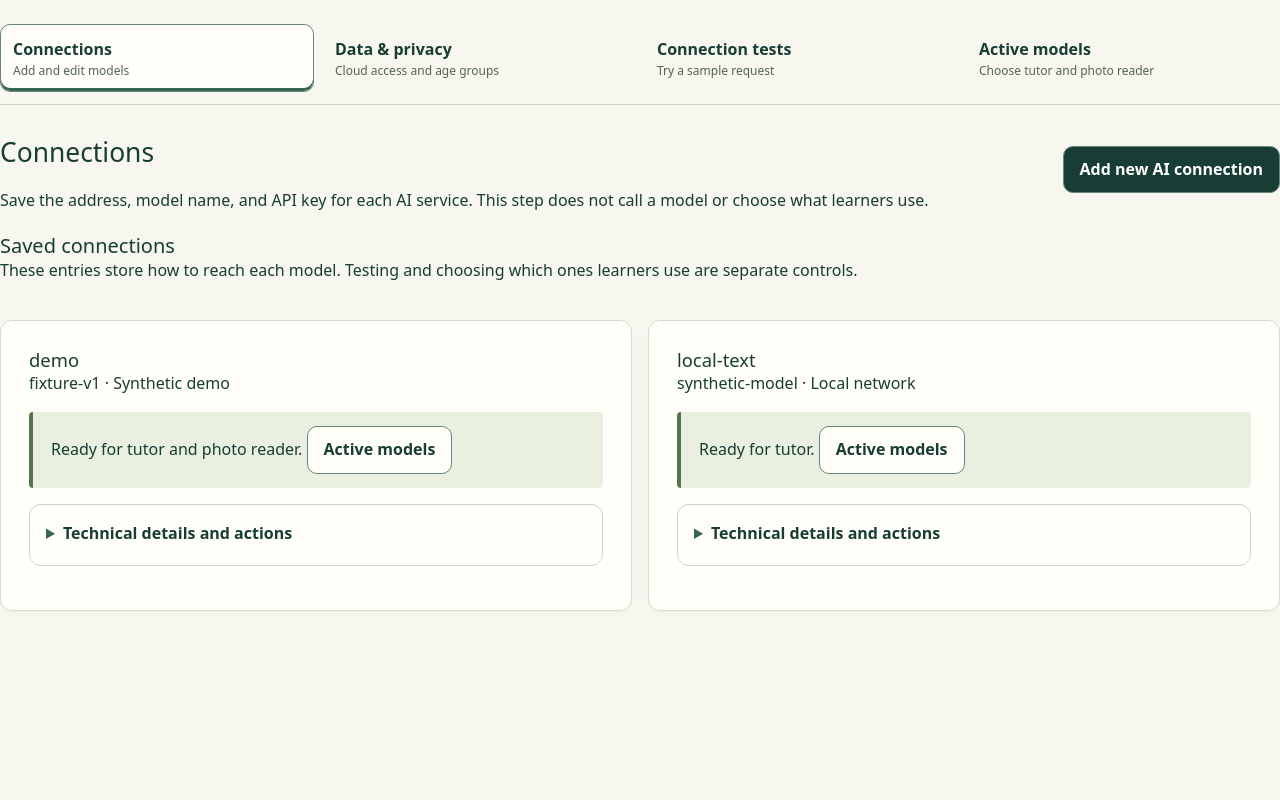
AI settings page › lets an adult explicitly reapprove a changed, successfully tested connection
Click the tab "Active models Choose tutor and photo reader" at [1035, 49], box [966,24,1279,92]
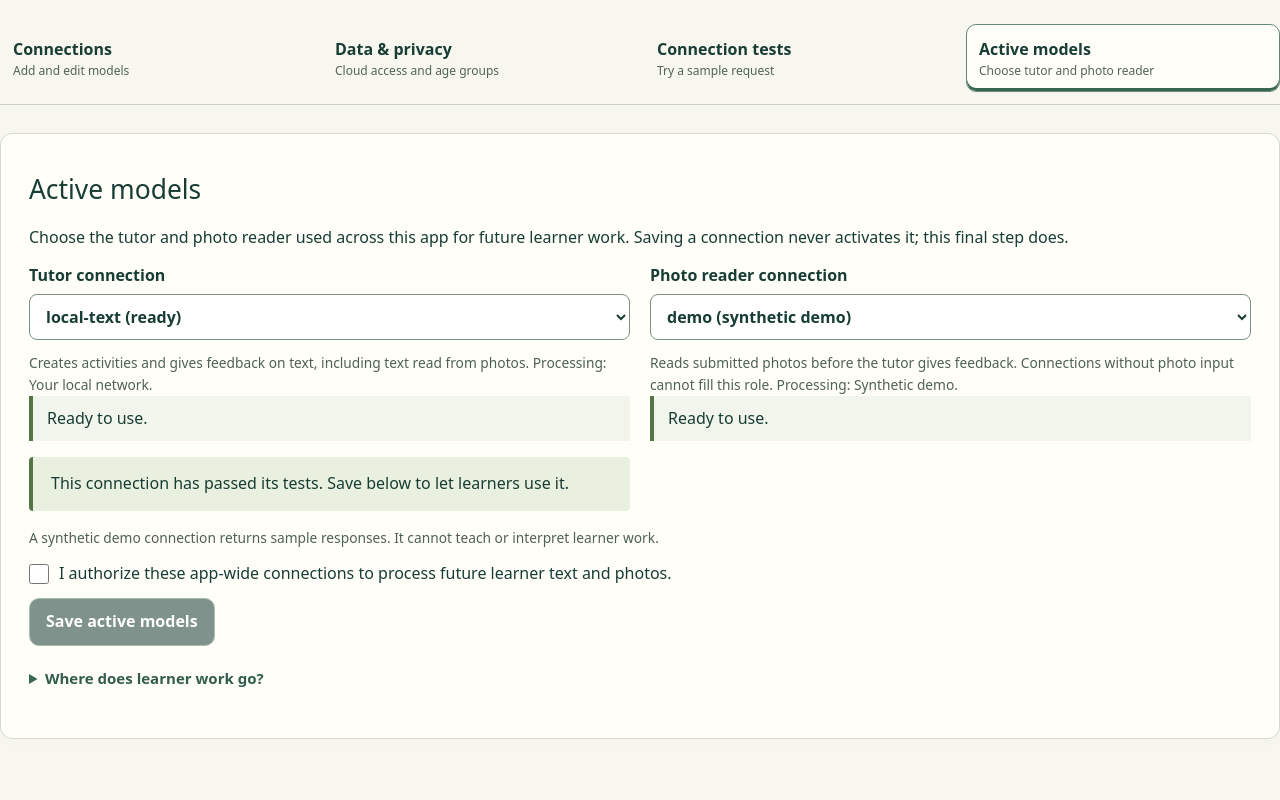
Expected: the text "This connection has passed its tests. Save below" is shown, [51,472,569,494]
Click the checkbox named "I authorize these app-wide connections to process future learner text and photos." at [39, 574], box [29,564,49,584]
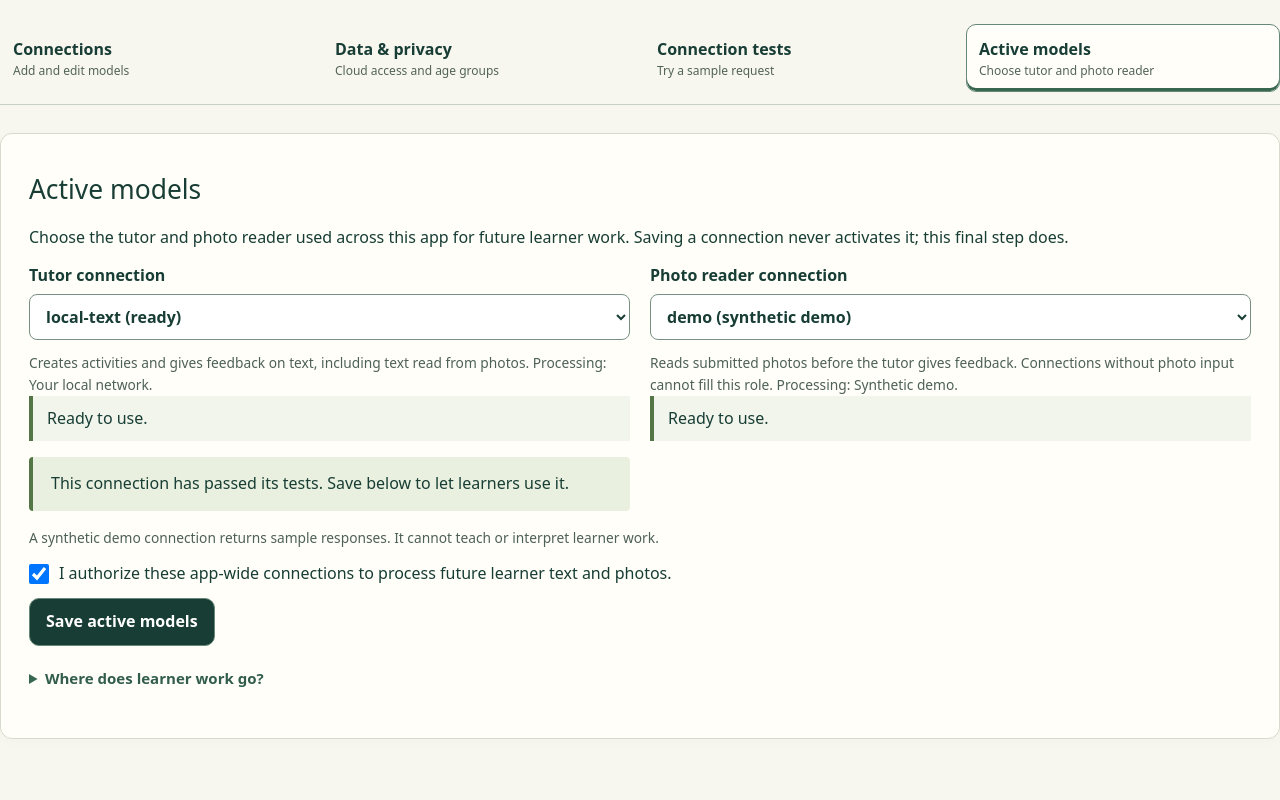
Click the button "Save active models" at [122, 622], box [29,598,215,646]
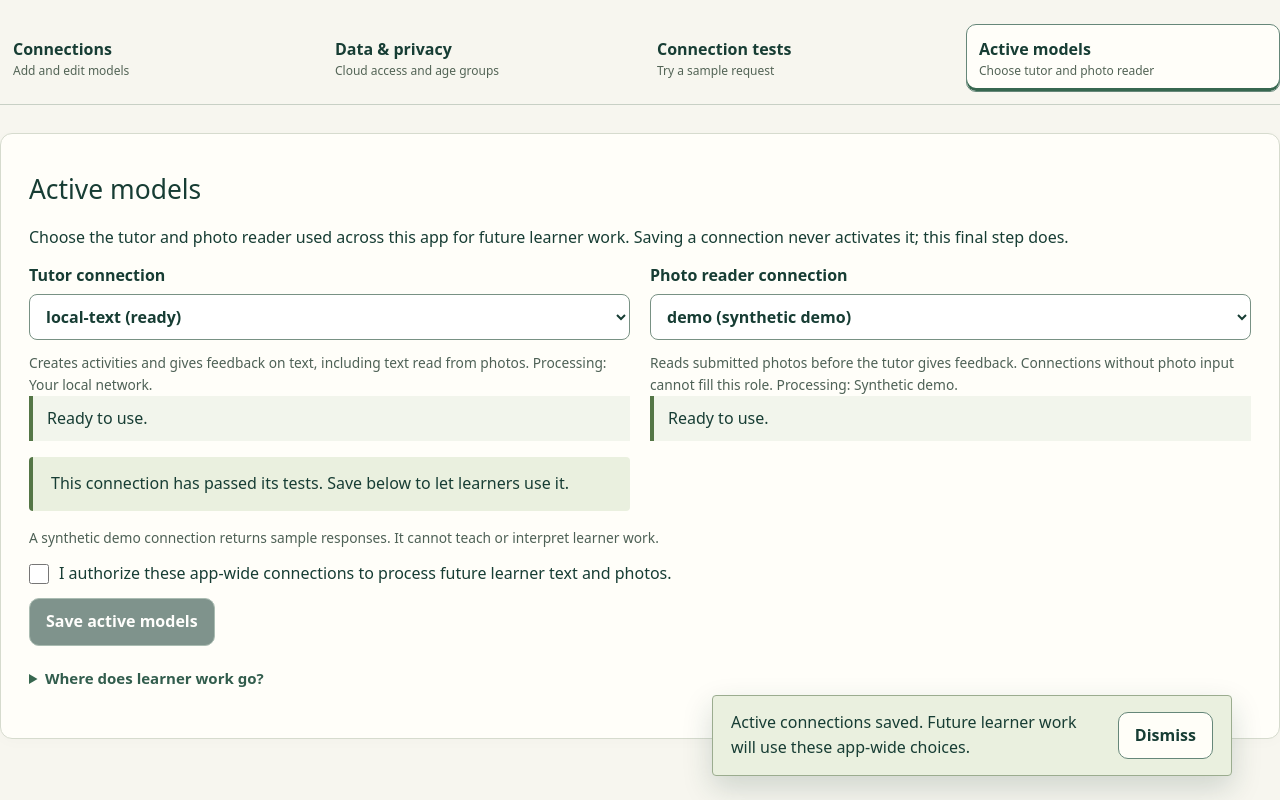
Expected: the text "Active connections saved. Future learner work will use these app-wide choices." is shown, [731,710,1102,761]
Click the tab "Connections Add and edit models" at [62, 49], box [0,24,314,92]
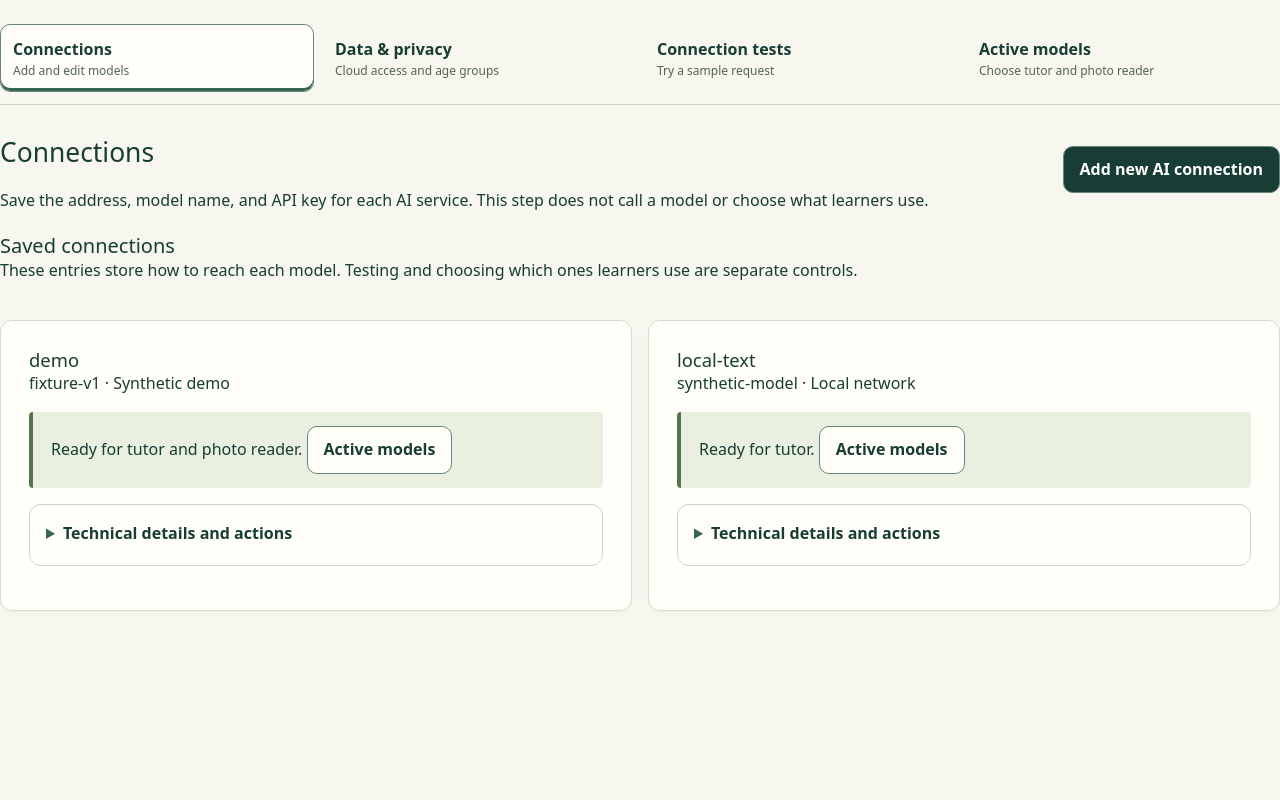
Expected: the message is gone
